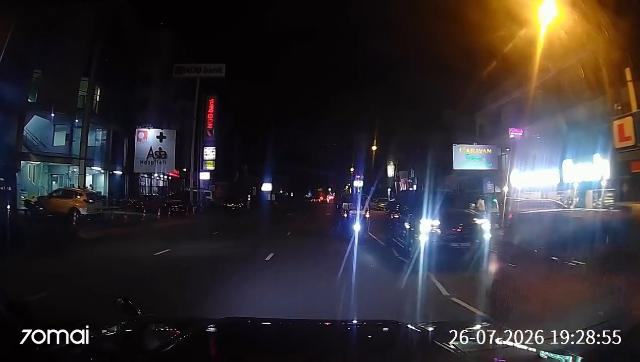illegal overtaking: (327, 192, 378, 243)
